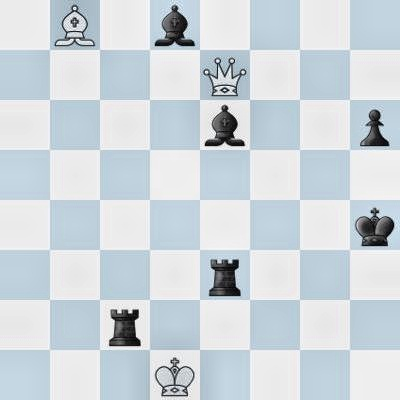black-bishop: (150, 0, 200, 50), (200, 100, 250, 150)
black-king: (350, 200, 400, 250)
black-pawn: (350, 100, 400, 150)
black-rook: (200, 250, 250, 300), (100, 300, 150, 350)
white-bishop: (50, 0, 100, 50)
white-king: (150, 350, 200, 400)
white-queen: (200, 50, 250, 100)
